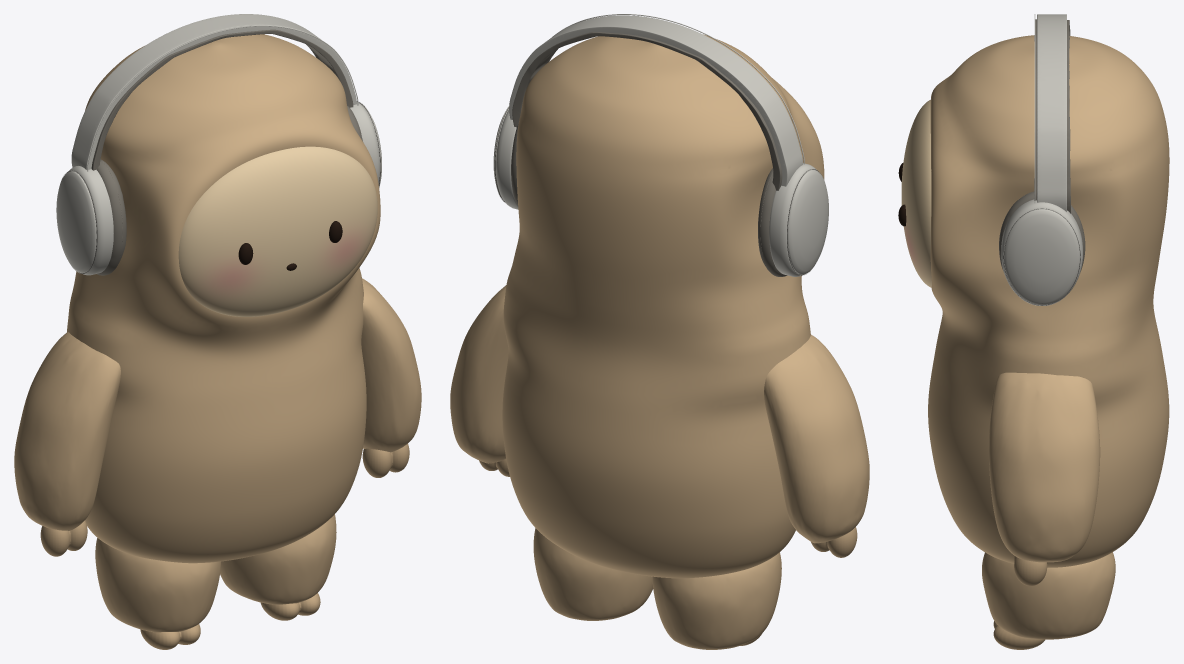
The model's file is jolly-d4.glb.
The picture shows the model from 3 angles, left to right: view 1: azimuth 30°, elevation 25°; view 2: azimuth 150°, elevation 25°; view 3: azimuth 270°, elevation 25°; orthographic projection. The views are drawn at different scales.
Visible parts, largest first — view 1: Fleece_Shell, Face, Arm_L, Leg_L, Arm_R, Headband, Leg_R, EarCup_Outer_Plate_L, Headband_Inner_Padding, EarCup_L, EarPad_L, Hand_L (+5 smaller); view 2: Fleece_Shell, Arm_L, Leg_L, Headband, Arm_R, Leg_R, EarCup_Outer_Plate_L, Headband_Inner_Padding, EarCup_L, EarCup_R, EarPad_L, Hand_L; view 3: Fleece_Shell, Arm_R, Leg_R, EarCup_Outer_Plate_R, Headband, Face, EarCup_R, Headband_Inner_Padding, Hand_R, Foot_R, EarPad_R.
Boxes of the visible parts, box(x1,y1,x2,y2) form: Fleece_Shell: box(67, 34, 380, 563); Face: box(178, 146, 377, 316); Arm_L: box(14, 332, 120, 530); Leg_L: box(95, 538, 220, 632); Arm_R: box(361, 278, 421, 452); Headband: box(71, 14, 356, 169); Leg_R: box(220, 514, 336, 604); EarCup_Outer_Plate_L: box(56, 171, 96, 273); Headband_Inner_Padding: box(91, 29, 353, 170); EarCup_L: box(68, 166, 113, 275); EarPad_L: box(96, 159, 126, 275); Hand_L: box(40, 520, 87, 556); Fleece_Shell: box(502, 34, 824, 578); Arm_L: box(764, 334, 869, 543); Leg_L: box(652, 552, 781, 649); Headband: box(509, 15, 802, 186); Arm_R: box(450, 285, 508, 463); Leg_R: box(533, 528, 653, 620); EarCup_Outer_Plate_L: box(787, 169, 828, 274); Headband_Inner_Padding: box(512, 31, 782, 190); EarCup_L: box(769, 163, 815, 276); EarCup_R: box(496, 109, 518, 209); EarPad_L: box(758, 168, 787, 276); Hand_L: box(811, 527, 857, 557); Fleece_Shell: box(928, 35, 1169, 567); Arm_R: box(989, 372, 1100, 562); Leg_R: box(982, 552, 1115, 639); EarCup_Outer_Plate_R: box(1004, 209, 1079, 305); Headband: box(1037, 14, 1066, 211); Face: box(901, 100, 931, 287); EarCup_R: box(1001, 199, 1082, 305); Headband_Inner_Padding: box(1034, 19, 1070, 213); Hand_R: box(1014, 556, 1047, 585); Foot_R: box(993, 621, 1044, 649); EarPad_R: box(999, 191, 1085, 271).
Size of the model in its own units: 1.72 by 2.5 by 1.05.
